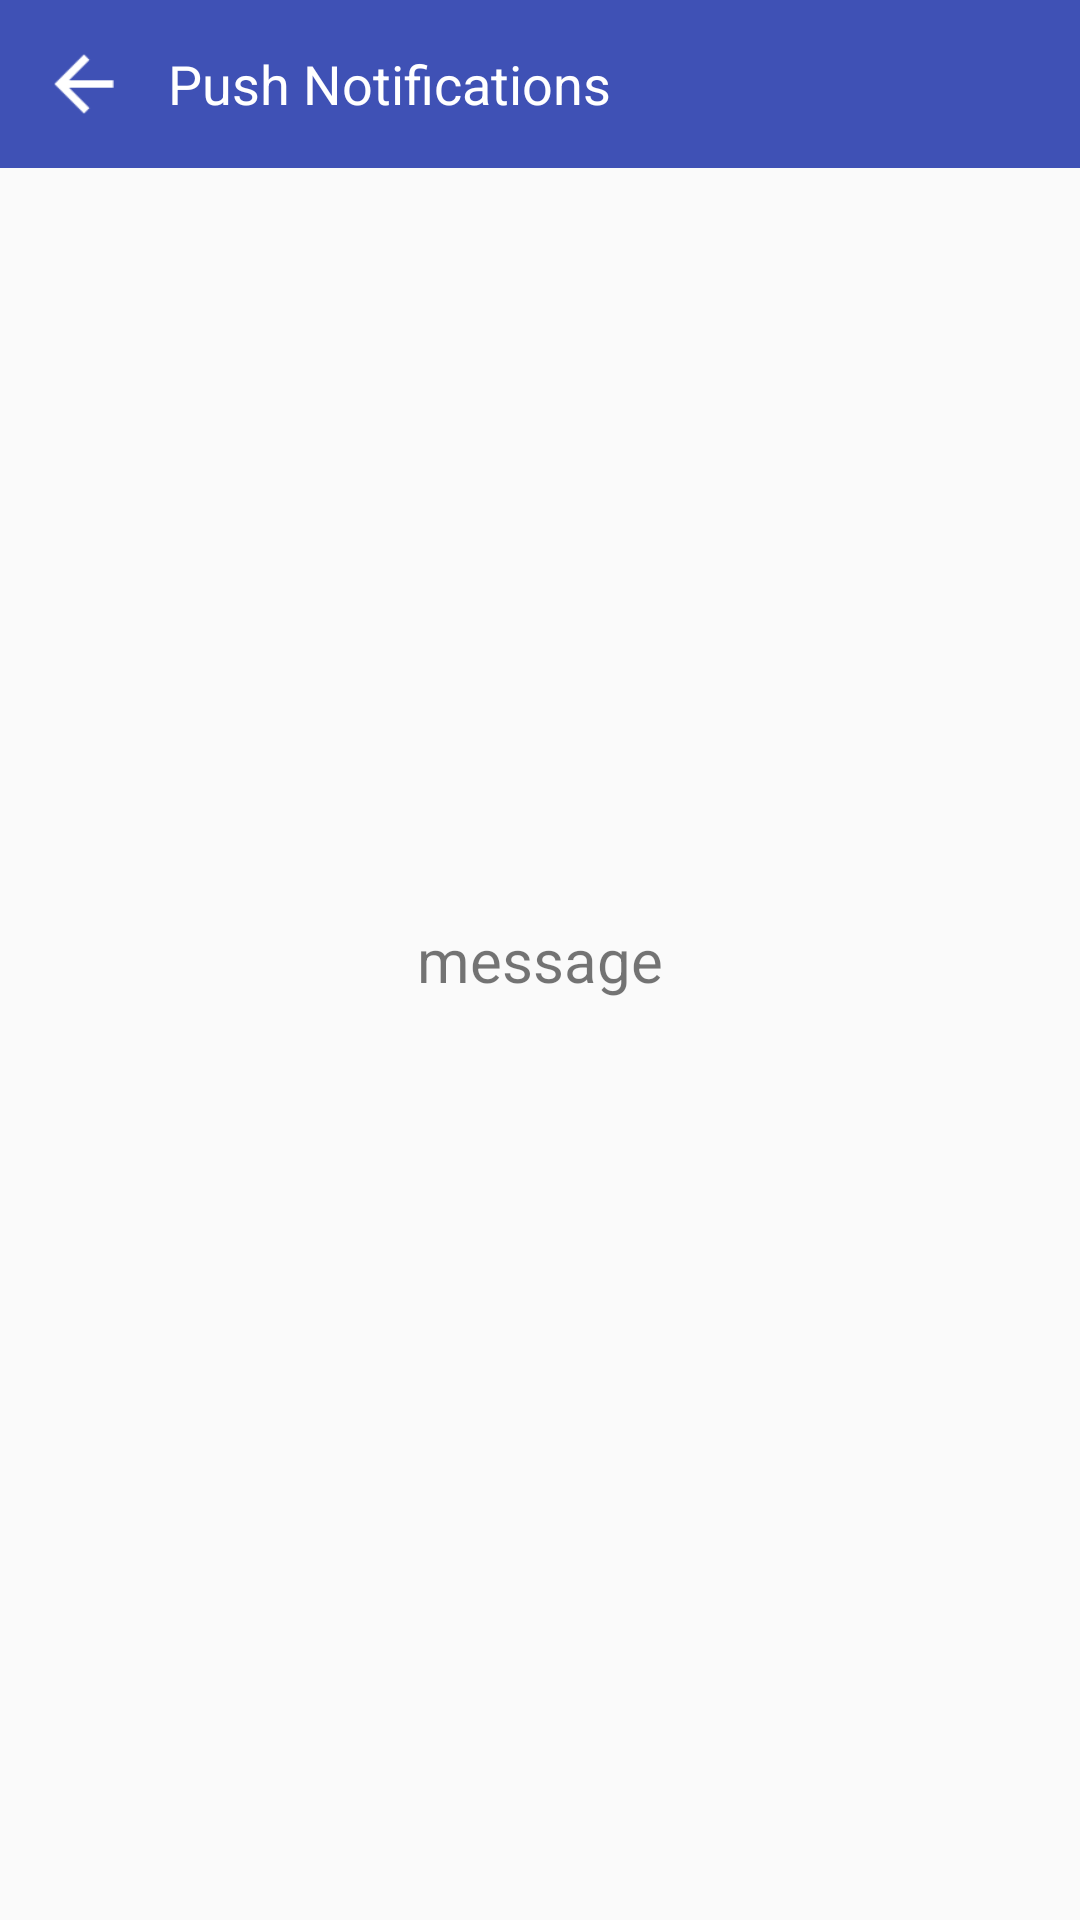

Icons on this 1080 × 1920 Android screen, each with the point to tap as [x,y]:
back arrow: [84,84]
